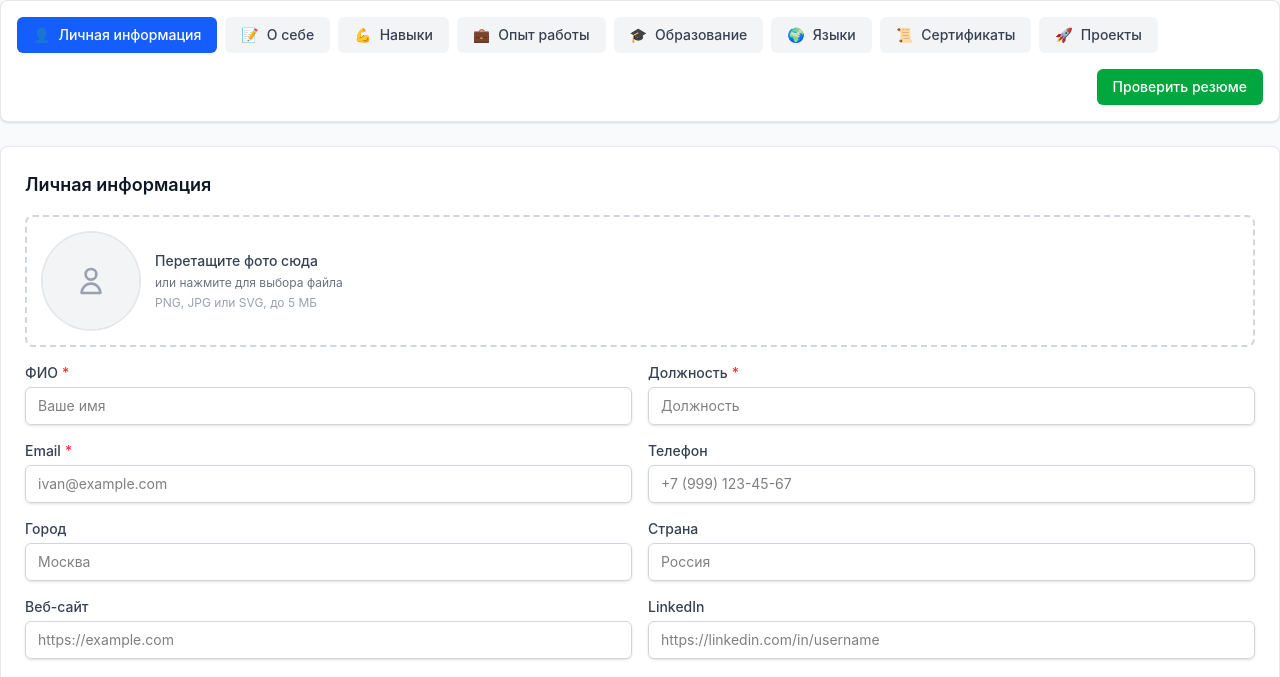
Test: EditorPanel › should show validation errors when validating empty resume
Click the button "Проверить резюме": (1180, 87) x1=1097 y1=69 x2=1263 y2=105
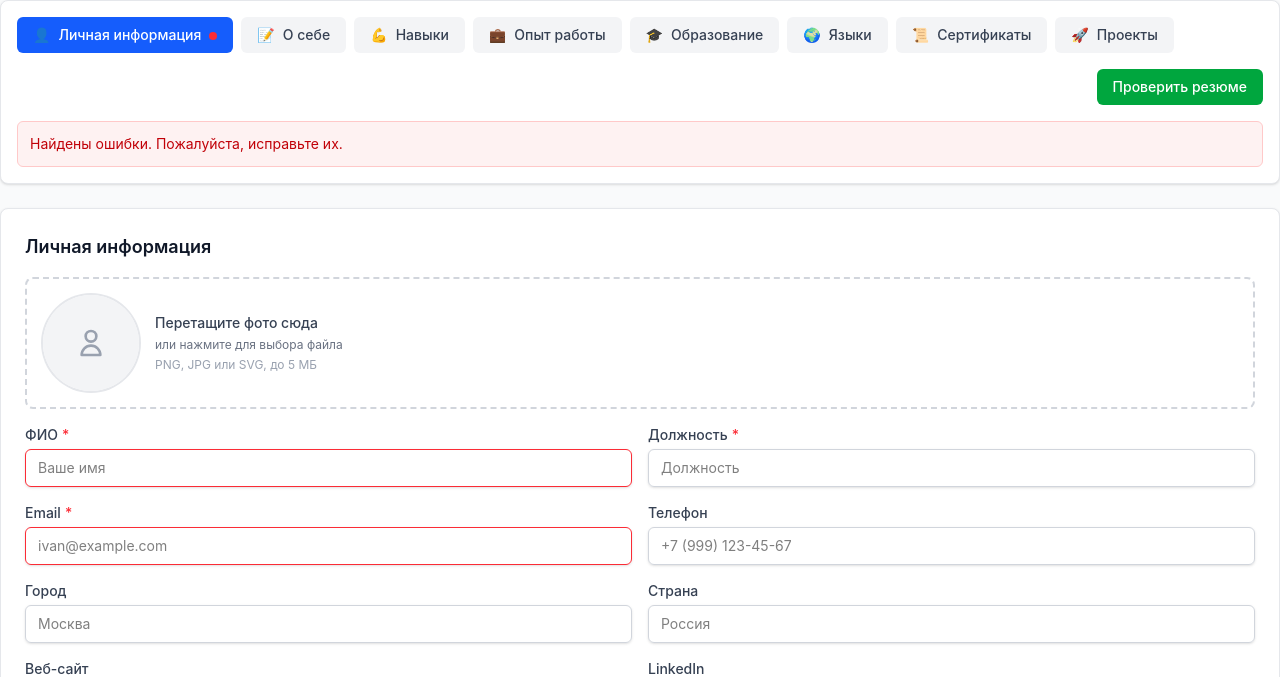
Now the text "Найдены ошибки. Пожалуйста, исправьте их." is shown, box x1=30 y1=135 x2=343 y2=152
